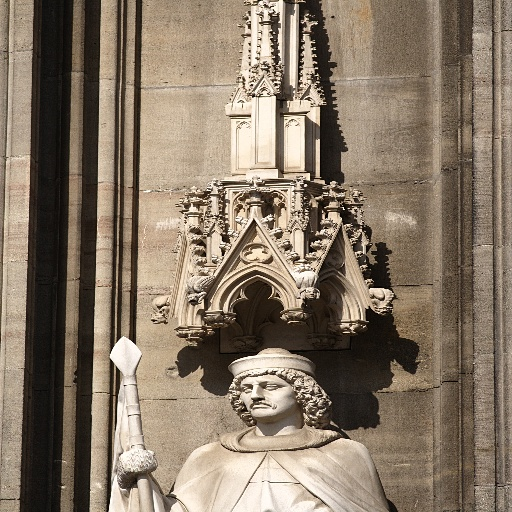hand: (114, 447, 160, 490)
